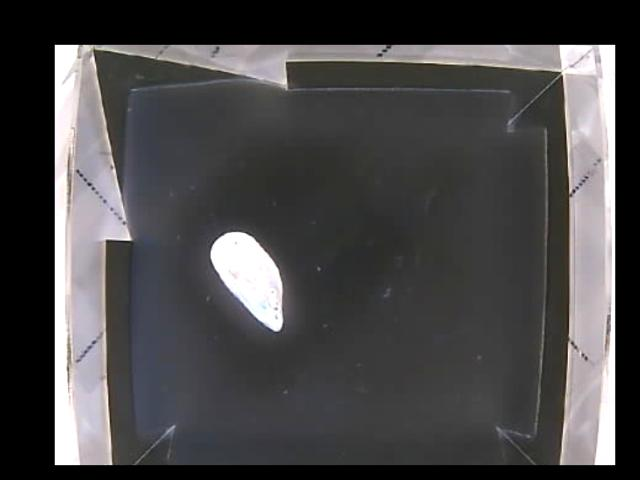Shell: (210, 231, 285, 331)
